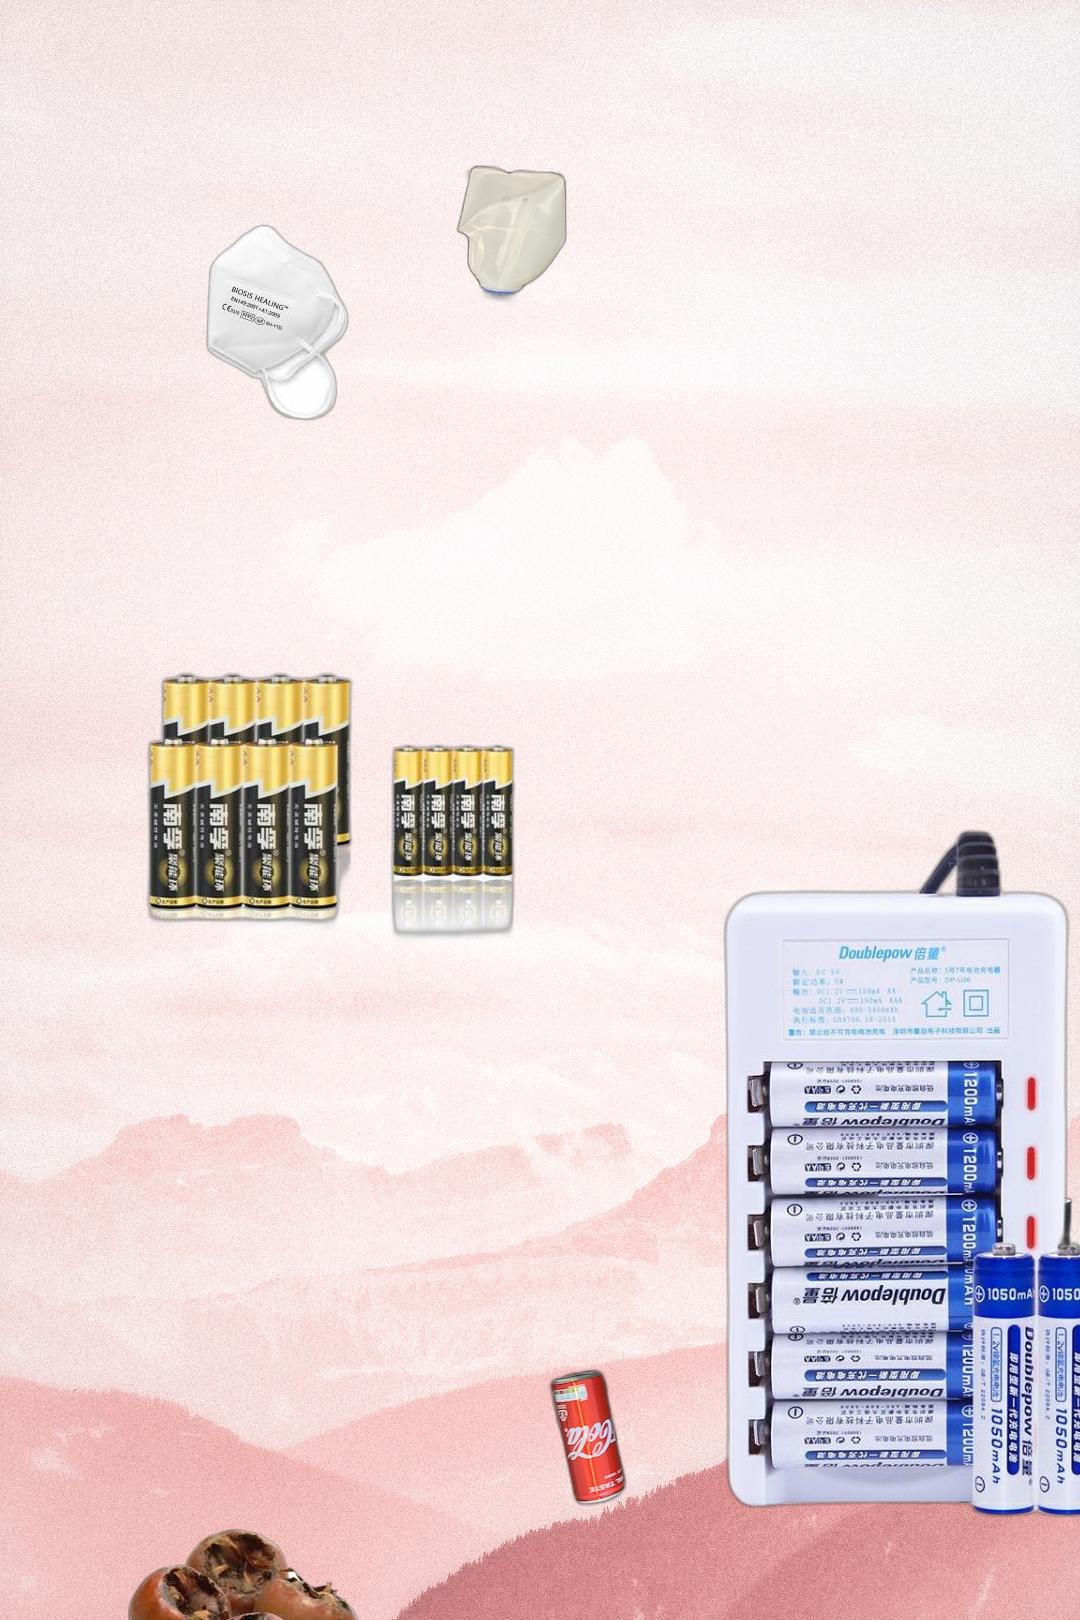battery: (720, 824, 1080, 1524), (142, 667, 521, 945)
biological: (125, 1526, 362, 1620)
metal-cans: (546, 1364, 630, 1510)
paper: (887, 1156, 1076, 1503)
plastic-bottles: (453, 159, 571, 307)
trash: (204, 223, 350, 423)
